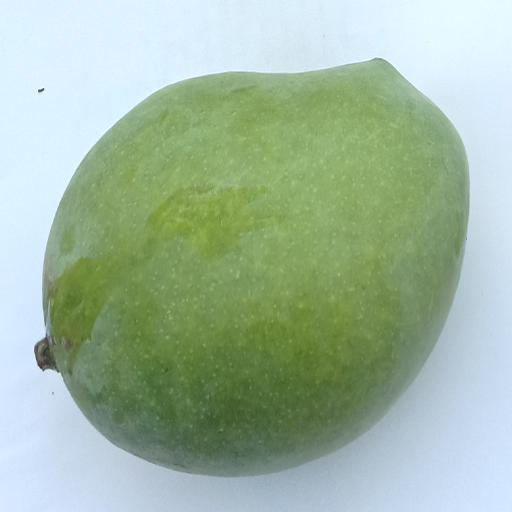mango-unripe: (20, 53, 470, 475)
